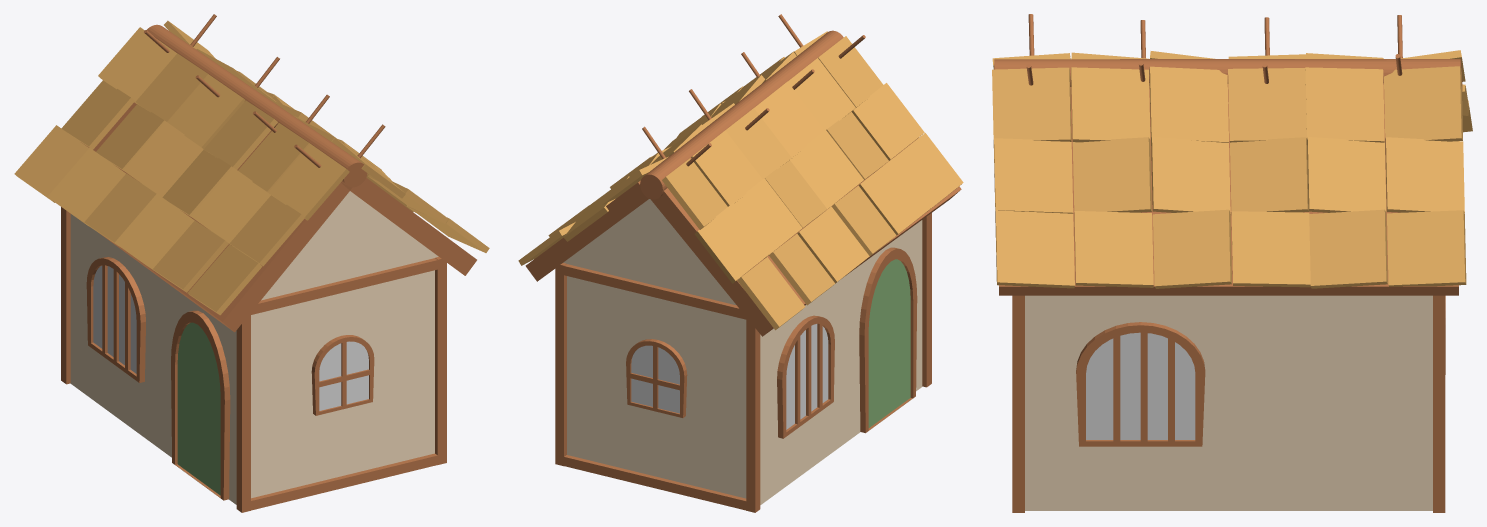
File: house.fbx
The picture shows the model from 3 angles, left to right: view 1: azimuth 30°, elevation 25°; view 2: azimuth 150°, elevation 25°; view 3: azimuth 270°, elevation 25°; orthographic projection. The views are drawn at different scales.
Visible parts, largest first — view 1: house, door, window.003, window.001, Roof, Cube.029, Cube.001, Cube.027, Cube.034, Cube.036, Cube.025, Cube.023 (+19 smaller); view 2: house, door, window.003, window.002, Roof, Cube.031, Cube.028, Cube.026, Cube.033, Cube.035, pillar.003, Cube.024 (+19 smaller); view 3: house, window.004, Cube.019, Cube.018, Cube.016, Cube.014, Cube.017, Cube.015, Cube.013, Cube.008, Cube.010, Cube.009 (+11 smaller).
Part boxes in pixels (x1,y1,x2,y2): house: (70,102,476,504); door: (171,310,230,500); window.003: (86,257,145,382); window.001: (311,335,374,415); Roof: (147,24,367,187); Cube.029: (124,121,204,197); Cube.001: (268,144,349,220); Cube.027: (191,167,270,244); Cube.034: (115,194,194,270); Cube.036: (47,147,125,226); Cube.025: (98,27,176,103); Cube.023: (168,75,245,149); house: (525,138,961,504); door: (859,247,917,433); window.003: (777,315,834,438); window.002: (626,339,687,417); Roof: (640,30,843,199); Cube.031: (694,202,771,283); Cube.028: (790,130,863,208); Cube.026: (851,83,924,160); Cube.033: (858,157,931,235); Cube.035: (797,206,869,283); pillar.003: (746,318,760,512); Cube.024: (691,130,762,206); house: (999,83,1458,510); window.004: (1076,322,1205,446); Cube.019: (995,210,1074,288); Cube.018: (1074,211,1153,287); Cube.016: (1231,211,1310,287); Cube.014: (1387,210,1466,286); Cube.017: (1153,209,1231,288); Cube.015: (1309,209,1387,288); Cube.013: (1385,137,1464,212); Cube.008: (993,138,1073,213); Cube.010: (1151,137,1230,213); Cube.009: (1072,137,1151,212).
Size of the model in its own units: 527 by 634 by 662.
